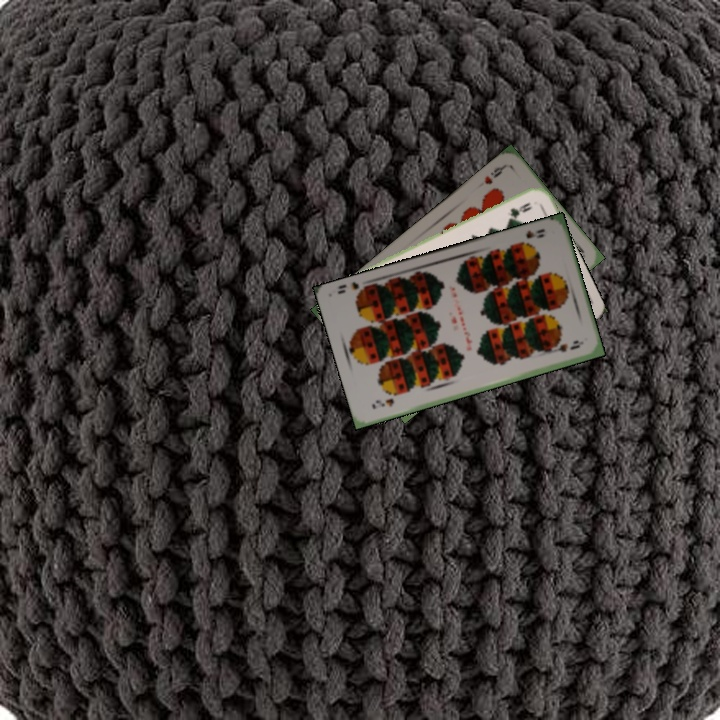G9: (504, 198, 535, 223)
H9: (480, 161, 508, 187)
S9: (513, 224, 548, 249), (368, 394, 396, 412)
